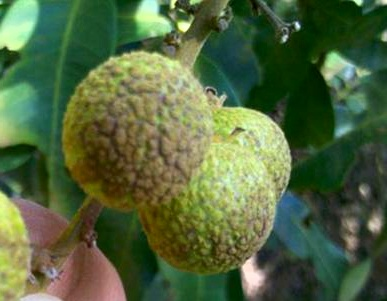Frost_Blight: (79, 80, 233, 203)
